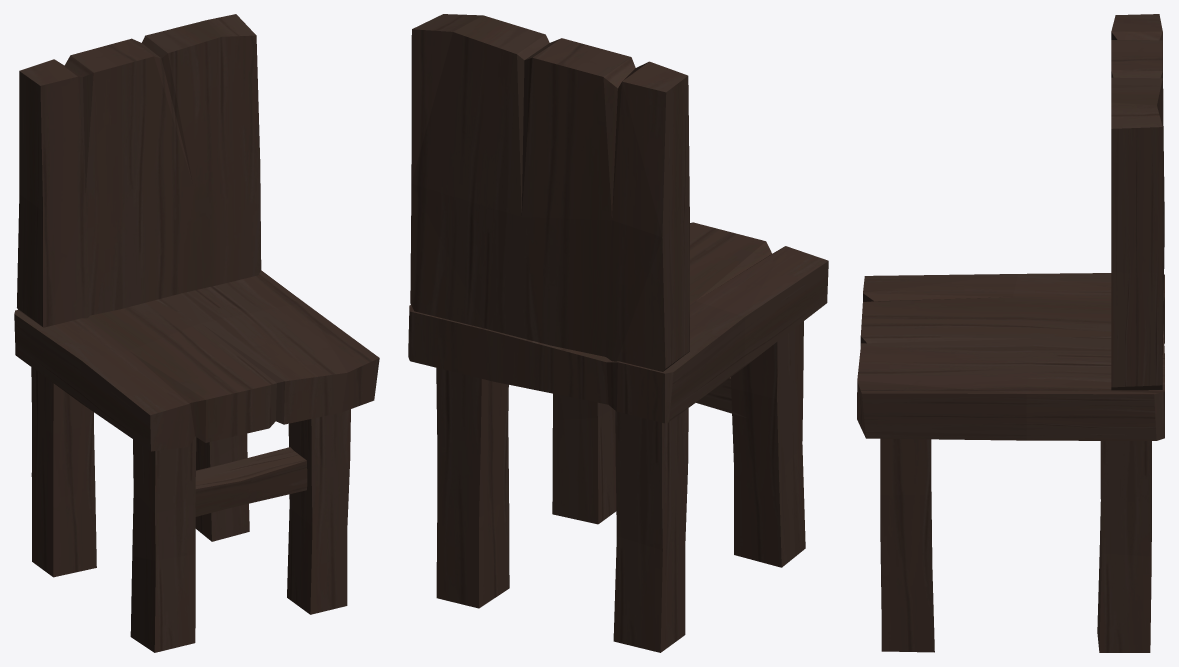
File: chair_1.FBX
3 views of the same model, side by side, from view 1: azimuth 30°, elevation 25°; view 2: azimuth 150°, elevation 25°; view 3: azimuth 270°, elevation 25° (orthographic). The views are drawn at different scales.
Visible parts, largest first — view 1: chair_1; view 2: chair_1; view 3: chair_1.
Part boxes in pixels (box(x1,y1,x2,y2)): chair_1: box(14, 14, 379, 652); chair_1: box(408, 14, 828, 652); chair_1: box(857, 14, 1164, 652).
Bounding box in the file's own units: 19.25 × 20.55 × 39.65.
1 material, 1 textured.
